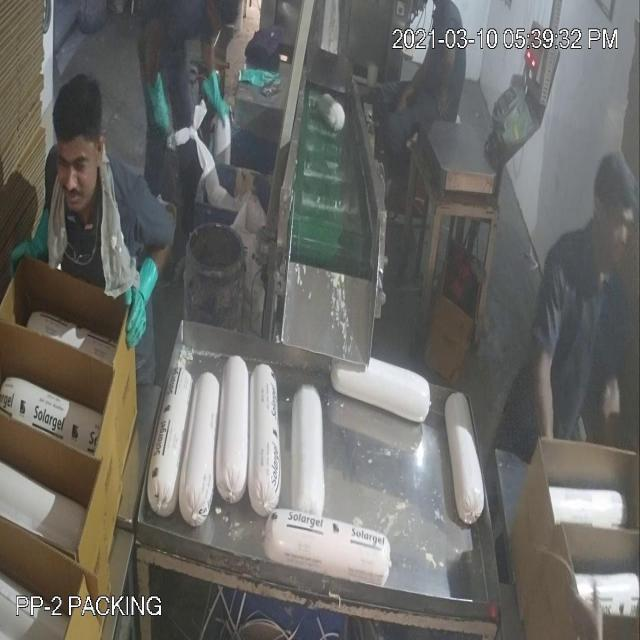No_Gloves: (36, 102, 543, 392)
